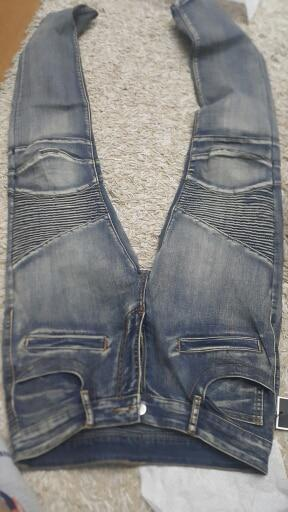jeans: (6, 5, 274, 483)
